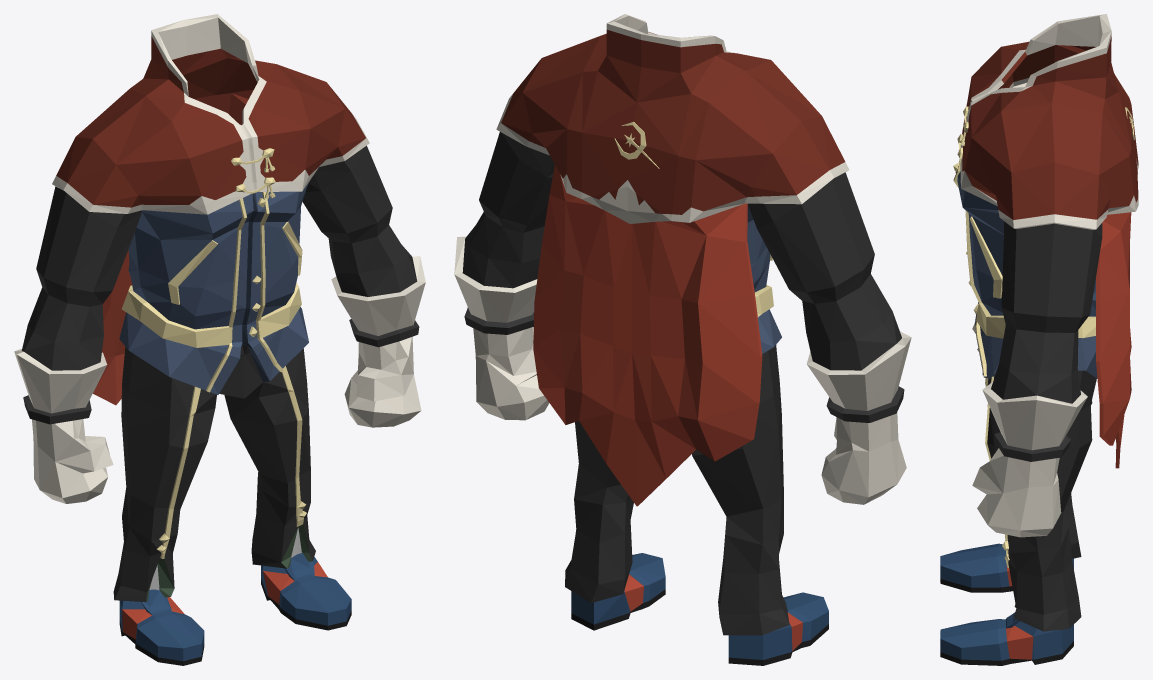
Rendered from ARMOR_Starmagi.fbx.
3 renders of one model, left to right at view 1: azimuth 30°, elevation 25°; view 2: azimuth 150°, elevation 25°; view 3: azimuth 270°, elevation 25°, orthographic. The views are drawn at different scales.
Visible parts, largest first — view 1: ARMOR_StarMagi_03_export:starmagi_male; view 2: ARMOR_StarMagi_03_export:starmagi_male; view 3: ARMOR_StarMagi_03_export:starmagi_male.
Boxes of the visible parts, left/top/right/bottom form: ARMOR_StarMagi_03_export:starmagi_male: left=14, top=14, right=425, bottom=665; ARMOR_StarMagi_03_export:starmagi_male: left=454, top=14, right=911, bottom=665; ARMOR_StarMagi_03_export:starmagi_male: left=940, top=14, right=1138, bottom=665.
Bounding box in the file's own units: 540 × 722 × 222.
